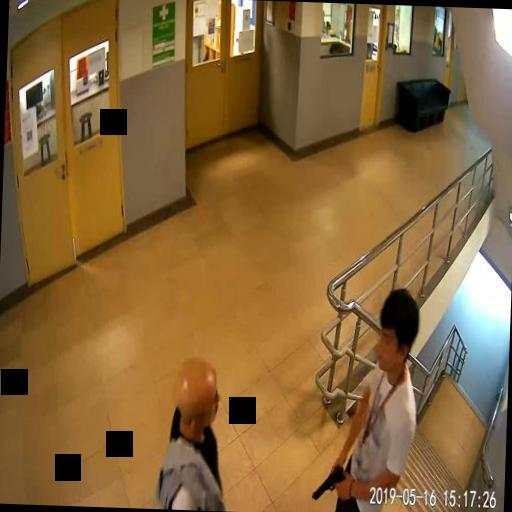Handgun: (310, 462, 346, 499)
